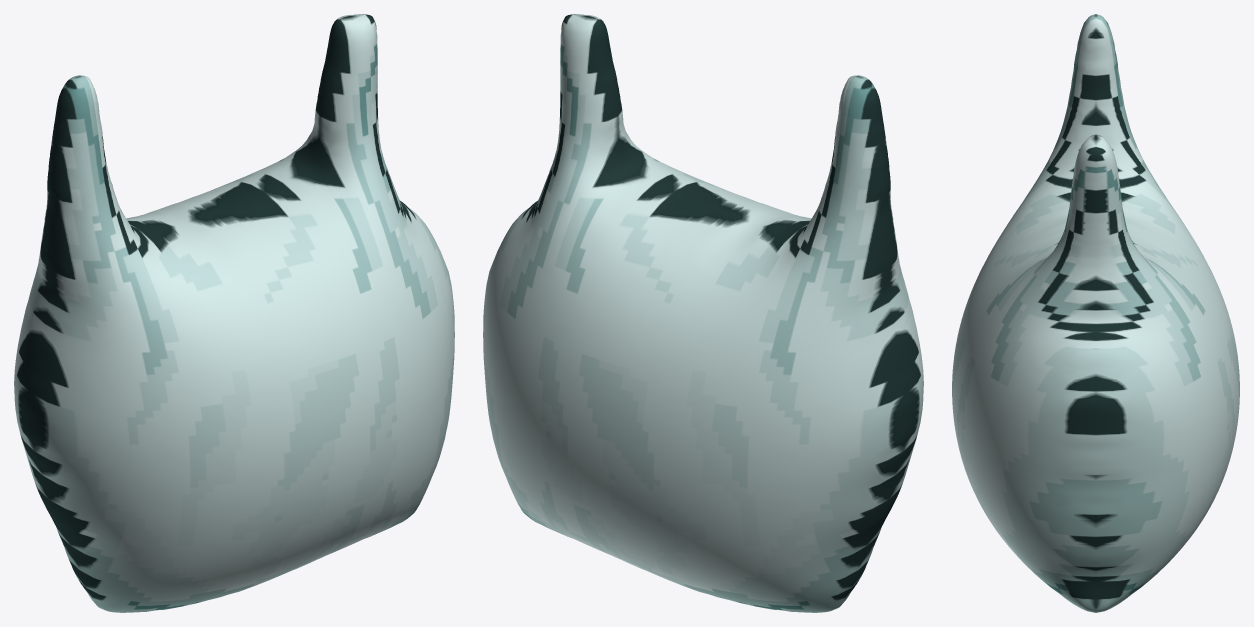
File: baggers.fbx
3 views of the same model, side by side, from view 1: azimuth 30°, elevation 25°; view 2: azimuth 150°, elevation 25°; view 3: azimuth 270°, elevation 25° (orthographic). The views are drawn at different scales.
Visible parts, largest first — view 1: Mesh_0; view 2: Mesh_0; view 3: Mesh_0.
Part boxes in pixels (x1=…): Mesh_0: x1=14, y1=14, x2=454, y2=612; Mesh_0: x1=483, y1=14, x2=923, y2=612; Mesh_0: x1=952, y1=14, x2=1239, y2=612.
Bounding box in the file's own units: 580 × 734 × 399.
Materials: 1 (1 with a texture image).
